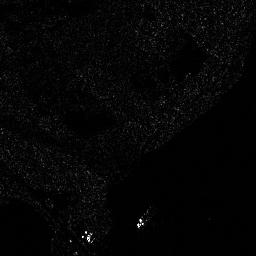ship: (136, 203, 156, 228)
